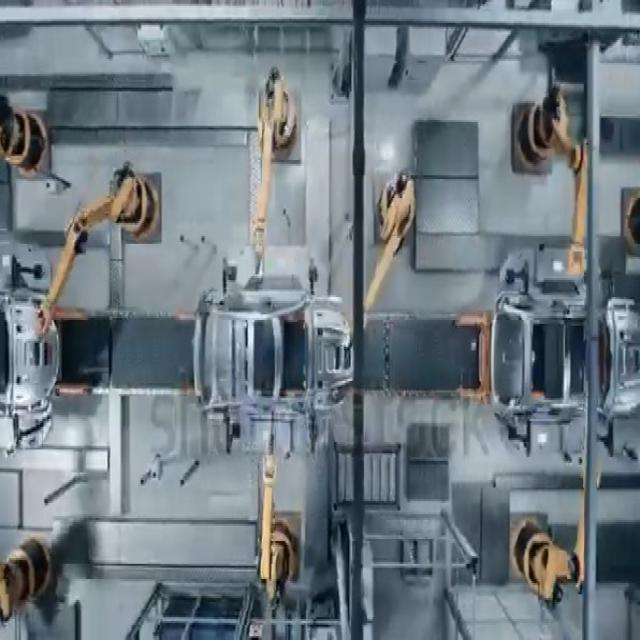auto: (186, 260, 355, 428), (483, 277, 640, 419)
robot: (516, 419, 610, 621), (510, 88, 592, 292), (246, 80, 310, 270), (246, 425, 308, 598), (361, 172, 418, 316), (95, 153, 168, 260), (0, 86, 64, 193)
